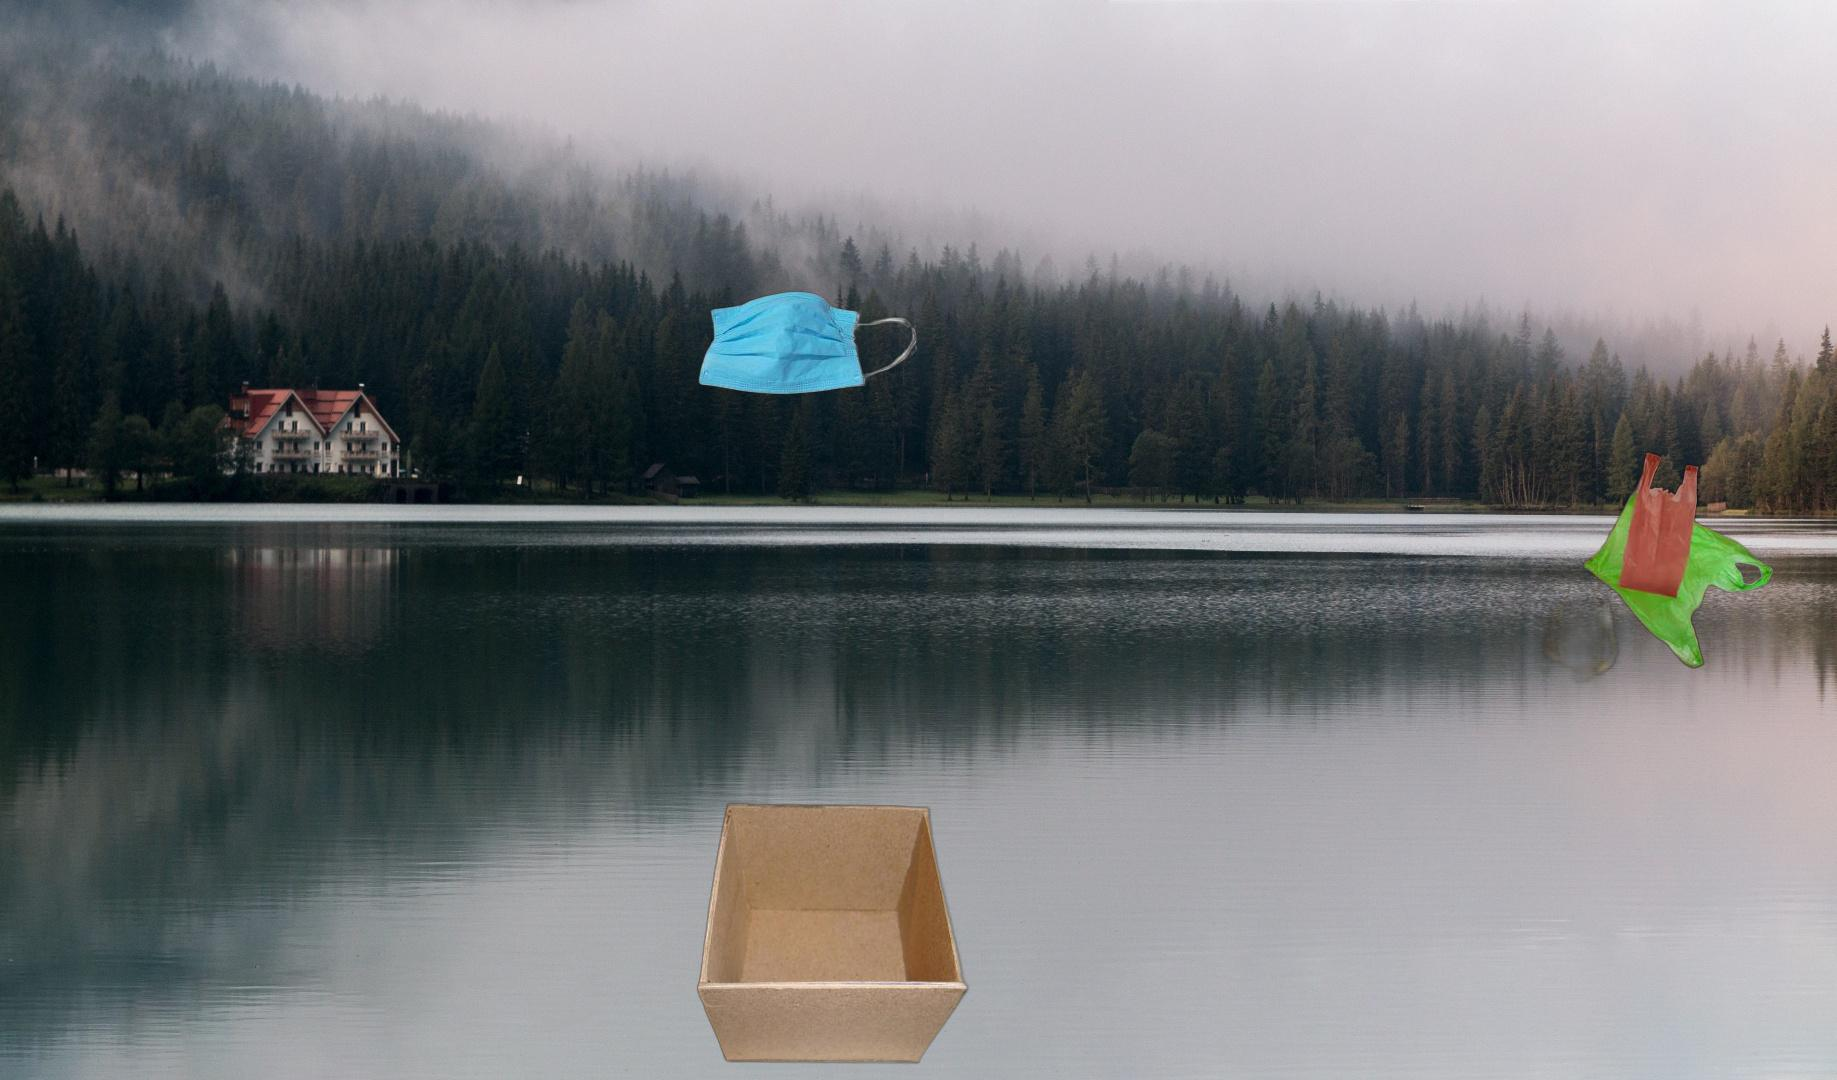plastic-bag: (1494, 449, 1775, 701)
trash: (656, 289, 920, 397)
trashbox-cardboard: (693, 800, 971, 1066)
